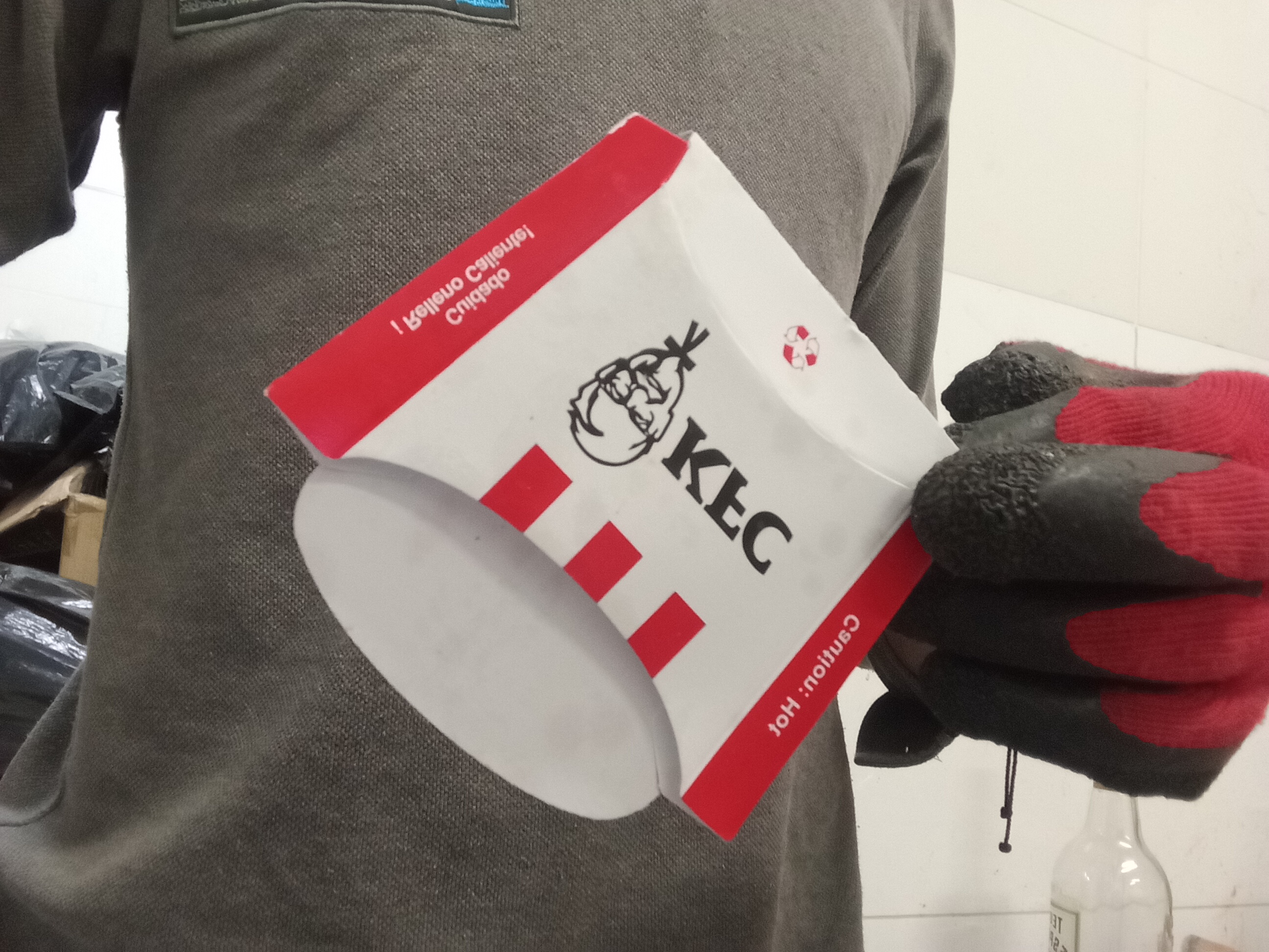Carton: (267, 112, 966, 842)
